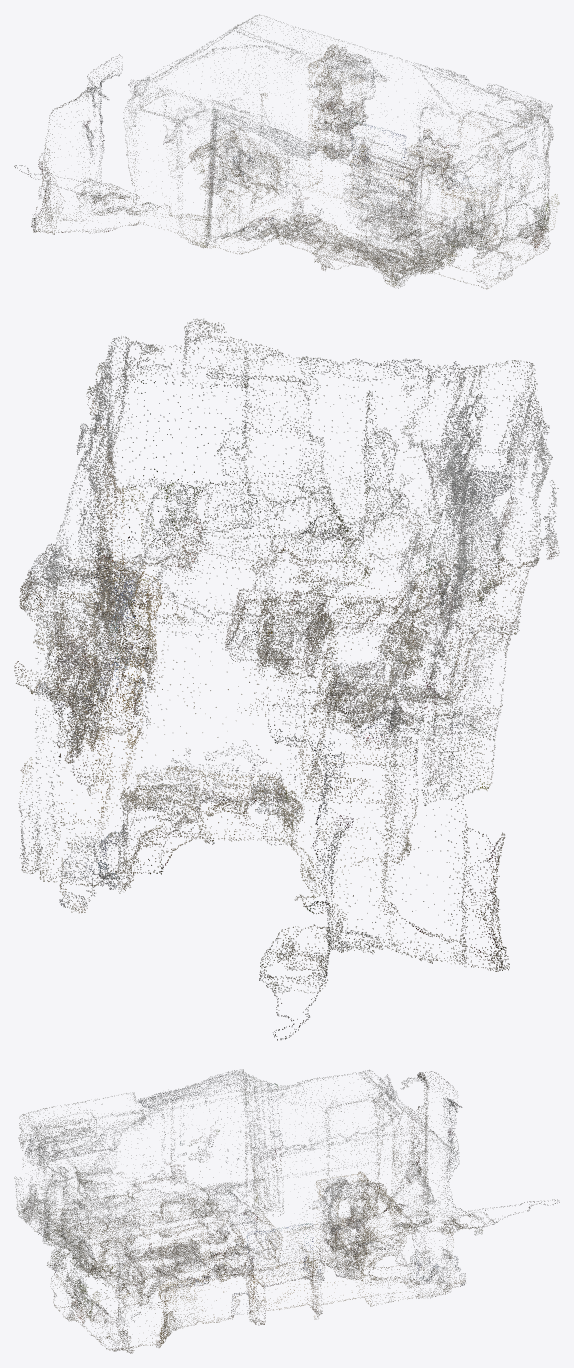
File: scan.glb
The picture shows the model from 3 angles, top to bottom: view 1: azimuth 30°, elevation 25°; view 2: azimuth 150°, elevation 25°; view 3: azimuth 270°, elevation 25°; orthographic projection. The views are drawn at different scales.
Parts seen in each view (by area): view 1: scan-voxels; view 2: scan-voxels; view 3: scan-voxels.
Boxes of the visible parts, x1=… form: scan-voxels: x1=14, y1=14, x2=559, y2=289; scan-voxels: x1=14, y1=318, x2=559, y2=1040; scan-voxels: x1=14, y1=1069, x2=559, y2=1353.
Size of the model in its own units: 0.0677 by 0.0293 by 0.0847.
